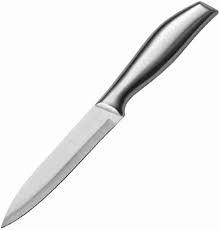Knife: (0, 0, 218, 228)
